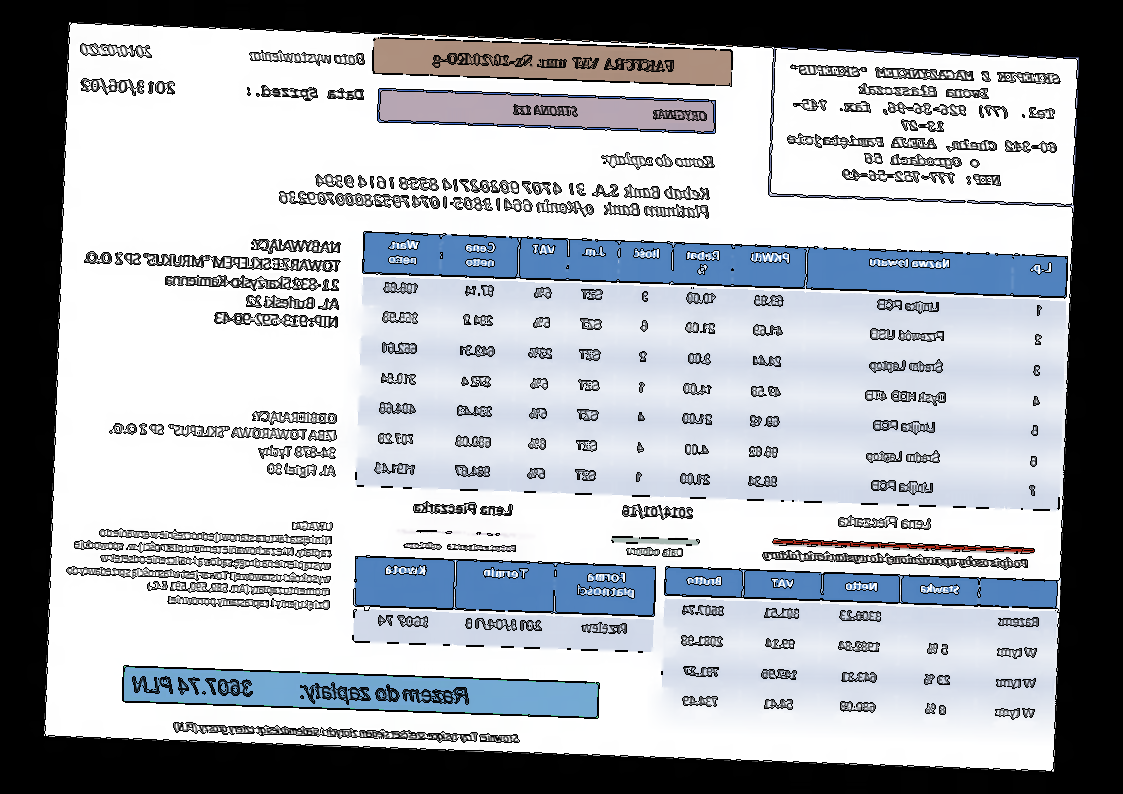Table: (353, 230, 1070, 512), (660, 565, 1060, 733), (351, 555, 657, 653)
TextBox: (783, 58, 1063, 190), (66, 510, 336, 614), (79, 230, 344, 333), (276, 169, 712, 221), (107, 402, 340, 480), (129, 673, 474, 708), (174, 718, 521, 747), (430, 48, 677, 78), (760, 546, 1031, 573), (510, 101, 710, 125), (600, 149, 717, 174), (245, 82, 365, 105), (249, 47, 367, 67), (413, 497, 516, 519), (80, 76, 178, 96), (403, 537, 518, 554), (837, 512, 933, 532), (79, 41, 155, 59), (620, 503, 696, 521), (625, 543, 685, 560)
